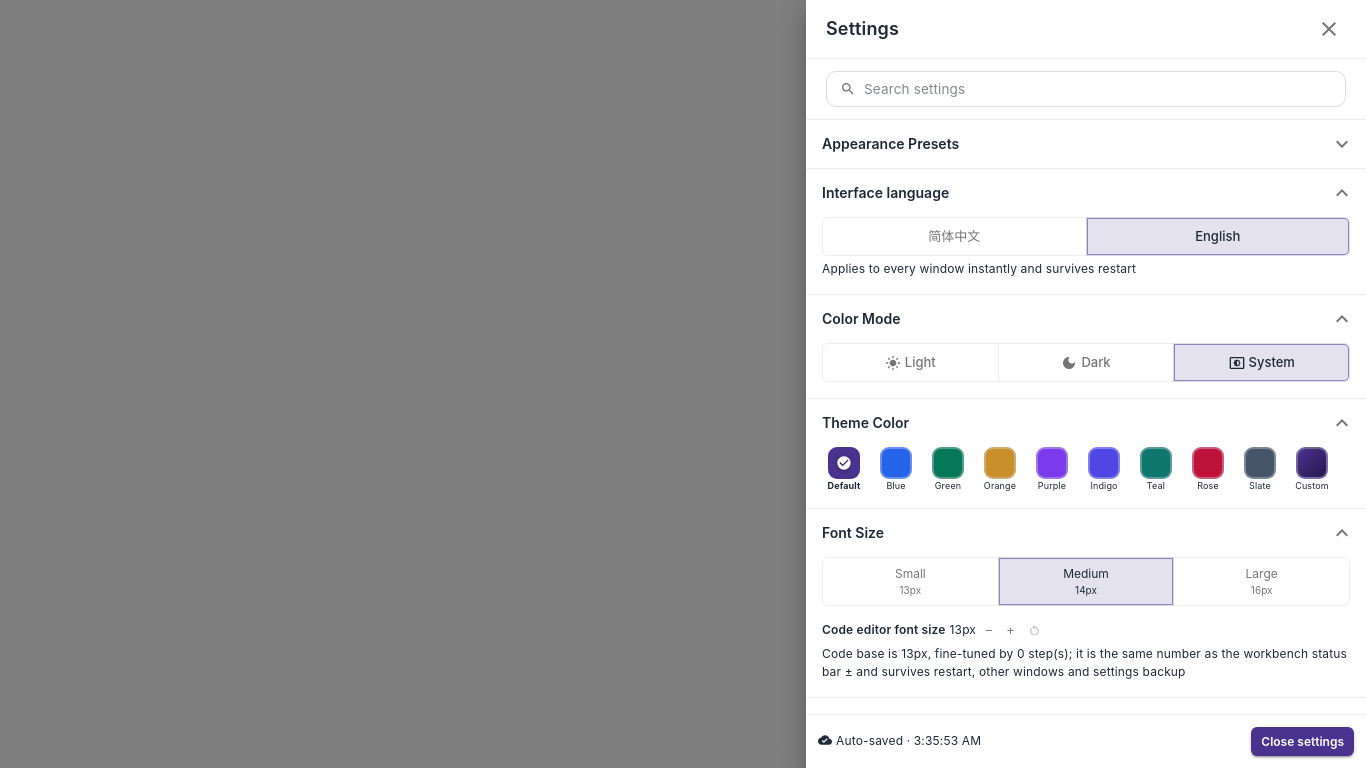
Test: 外观预设面板 · 名称与应用 › 英文环境下同一批卡片切换为英文名称
The width and height of the screenshot is (1366, 768).
What coordinates should you click on to do the following:
click the button with test id "appearance-preset-summary"
I would click on:
 (891, 144)
Its box is top-left (806, 120), bottom-right (1365, 168).
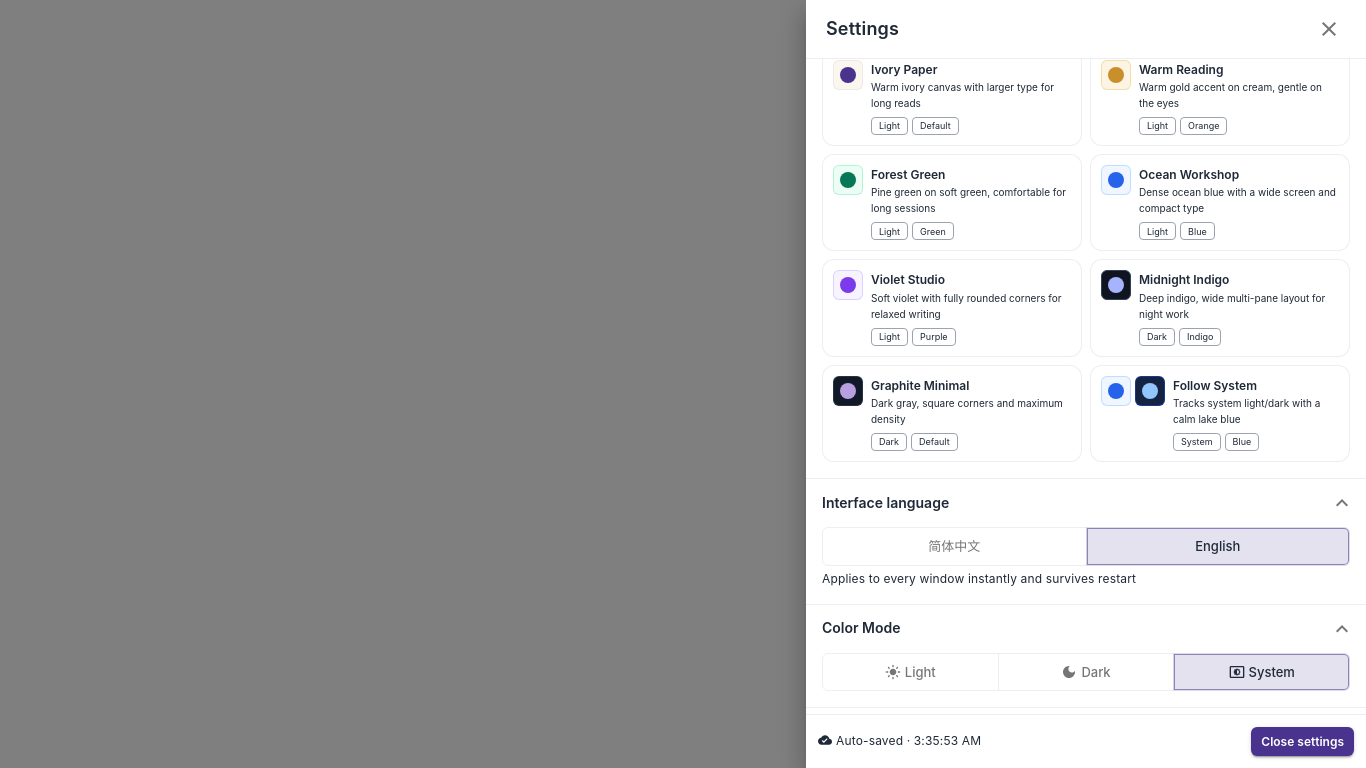
Expected: the text "Ivory Paper" is shown, top-left (871, 60), bottom-right (938, 79)
Expected: the text "Warm Reading" is shown, top-left (1139, 60), bottom-right (1223, 79)
Expected: the text "Forest Green" is shown, top-left (871, 165), bottom-right (946, 184)
